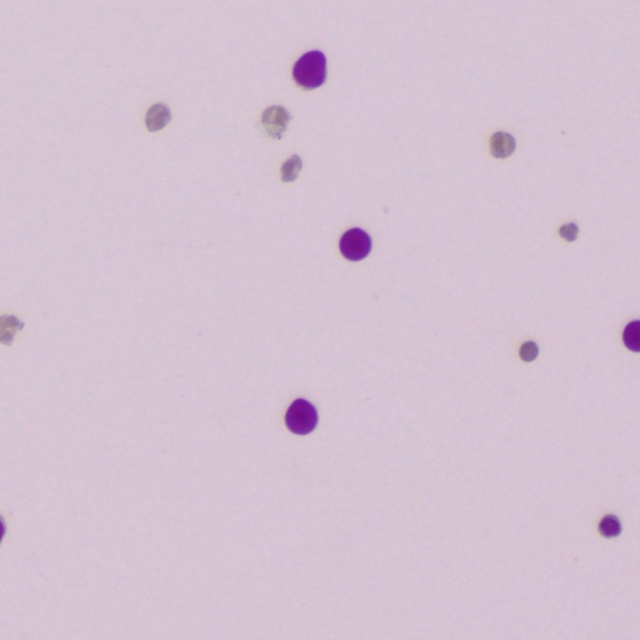non_viable: (261, 105, 290, 138), (145, 103, 170, 131), (0, 315, 22, 344), (490, 132, 515, 157), (280, 155, 301, 180), (519, 341, 538, 361), (558, 222, 578, 240)
viable: (292, 50, 324, 87), (285, 399, 317, 433), (339, 228, 371, 260), (623, 320, 640, 351), (598, 514, 619, 536)
